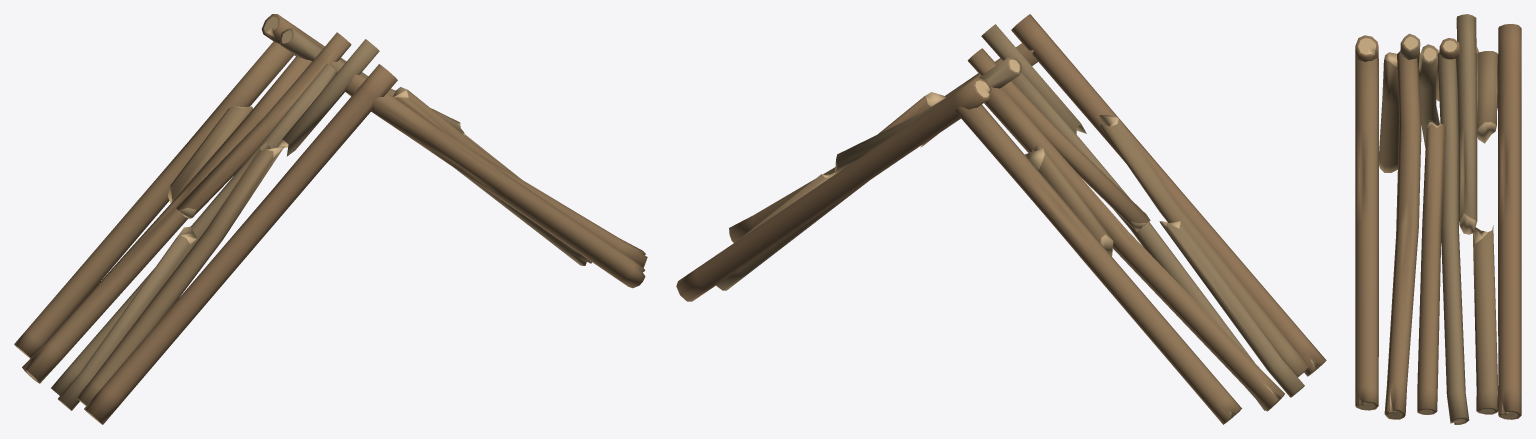
The model's file is rpgpp_av_roof_01_9x4x3_b.gltf.
3 views of the same model, side by side, from view 1: azimuth 30°, elevation 25°; view 2: azimuth 150°, elevation 25°; view 3: azimuth 270°, elevation 25° (orthographic). The views are drawn at different scales.
Parts seen in each view (by area): view 1: rpgpp_av_roof_01_9x4x3_b; view 2: rpgpp_av_roof_01_9x4x3_b; view 3: rpgpp_av_roof_01_9x4x3_b.
Part boxes in pixels (bbox=[...]): rpgpp_av_roof_01_9x4x3_b: bbox=[14, 14, 647, 424]; rpgpp_av_roof_01_9x4x3_b: bbox=[676, 14, 1326, 424]; rpgpp_av_roof_01_9x4x3_b: bbox=[1355, 14, 1521, 424].
Size of the model in its own units: 0.1129 by 0.0562 by 0.03.
1 material, 1 textured.
